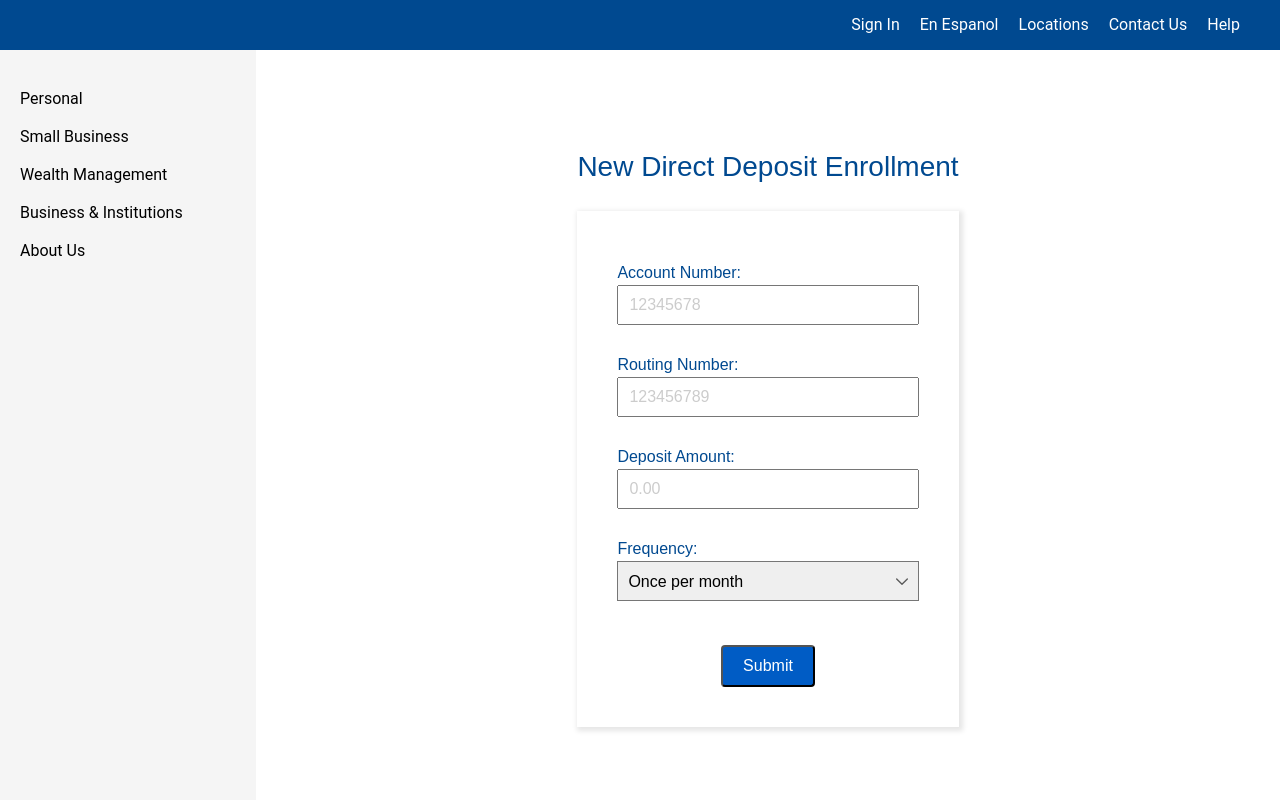
Test: Enrollment › account number is the correct length › should account number greater than 17 digits
The image size is (1280, 800).
Type "123456789012345678" into the number field with id "accountNumber" at point(768, 305), box left=617, top=285, right=918, bottom=325
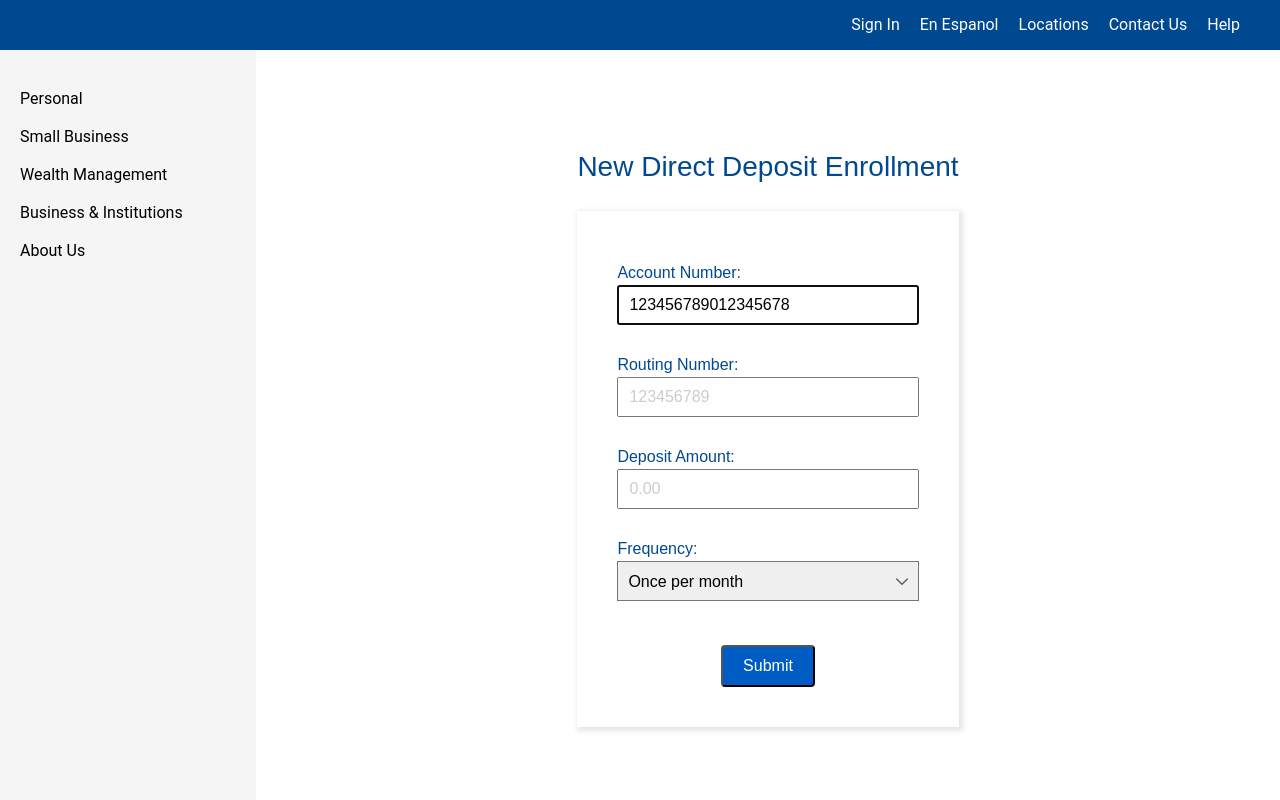
Submit the form, box left=577, top=211, right=958, bottom=727
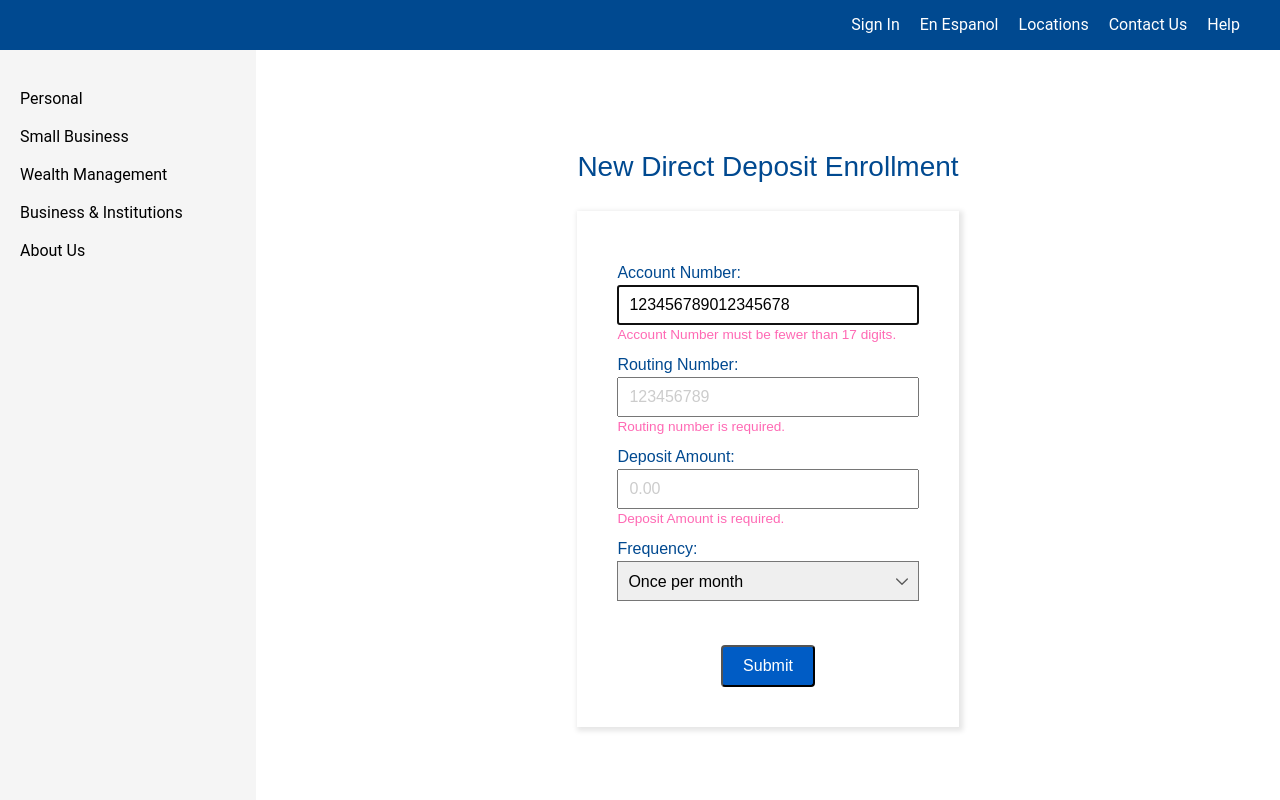
Result: the text "Account Number must be fewer than 17 digits." is shown at left=617, top=327, right=896, bottom=343
